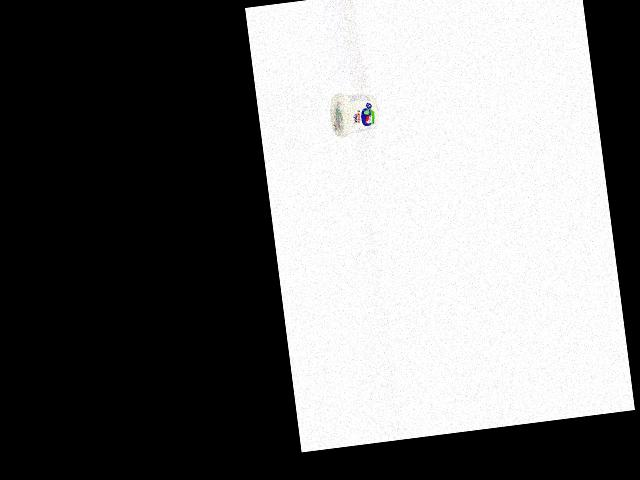cotage: (327, 88, 383, 140)
